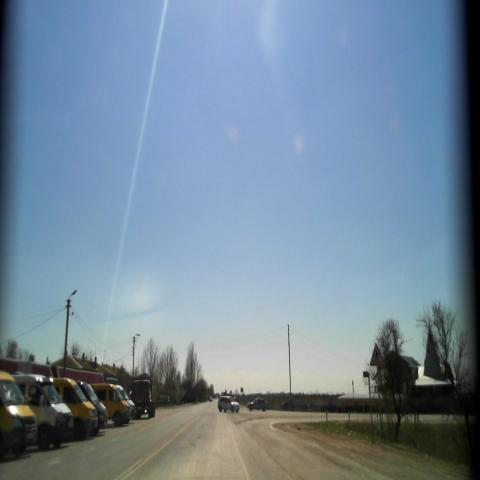1_22: (369, 343, 384, 366)
